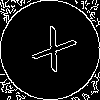X: (25, 25, 78, 82)
